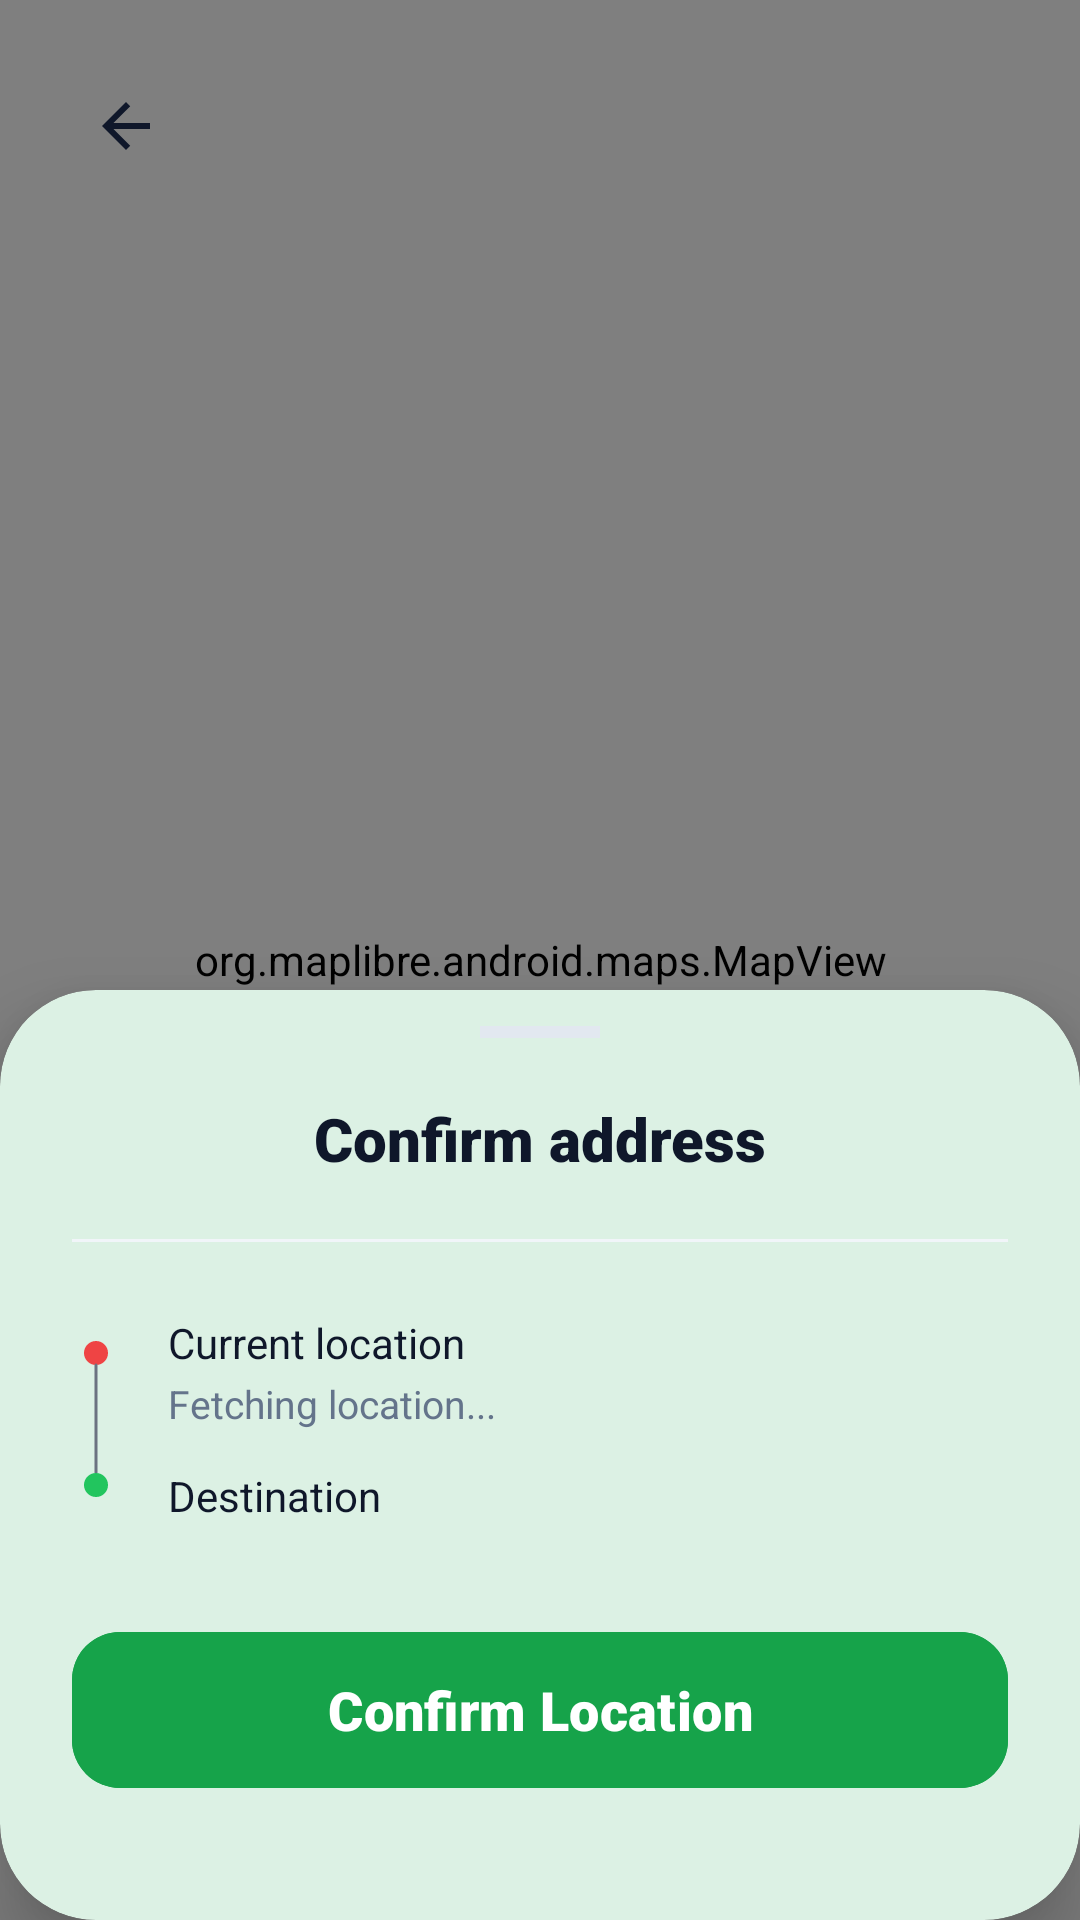

Point at icon controls on the screen. Image size 1080w x 1920h, points as (x,y).
arrow back: (126,126)
